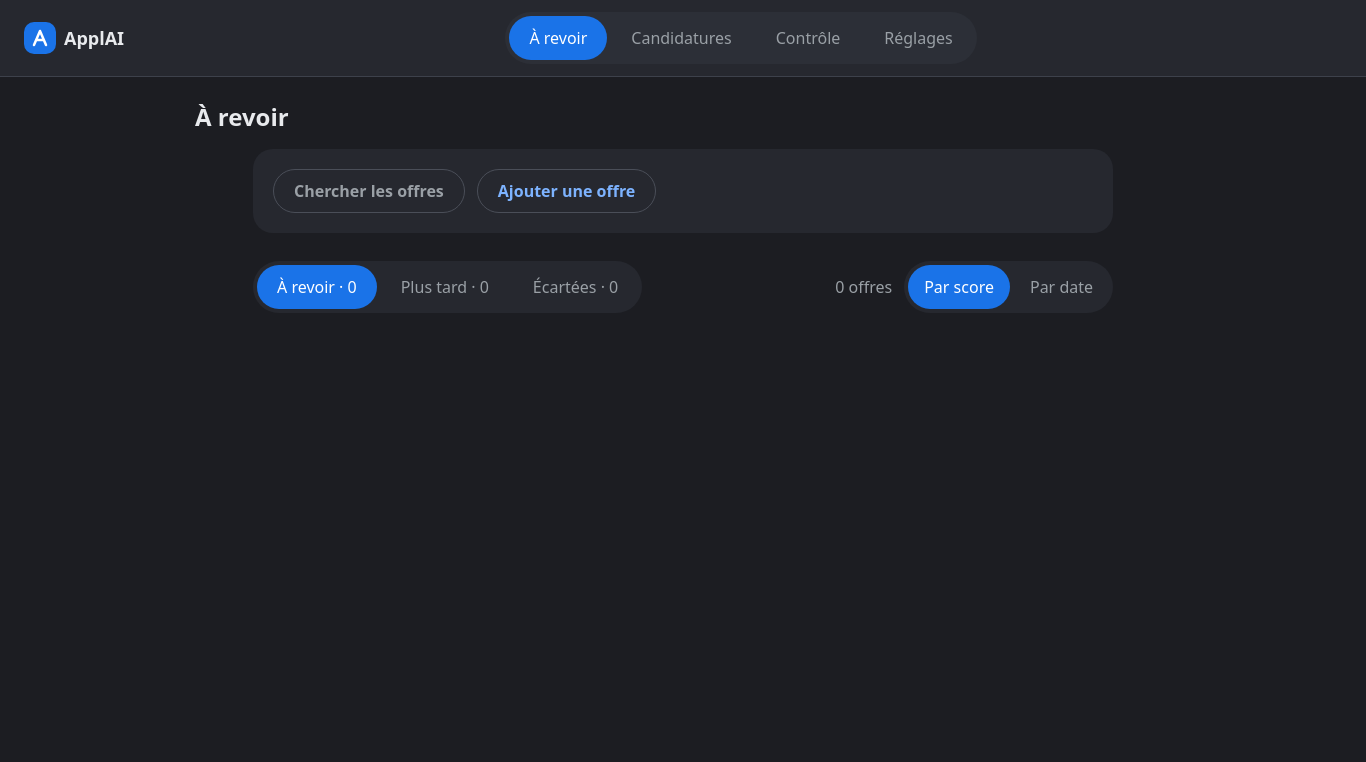
Test case: deciding on an answer › accepts an answer: posts accept and shows it accepted
Click the button "Candidatures".
click(682, 38)  # box [611,16,752,60]
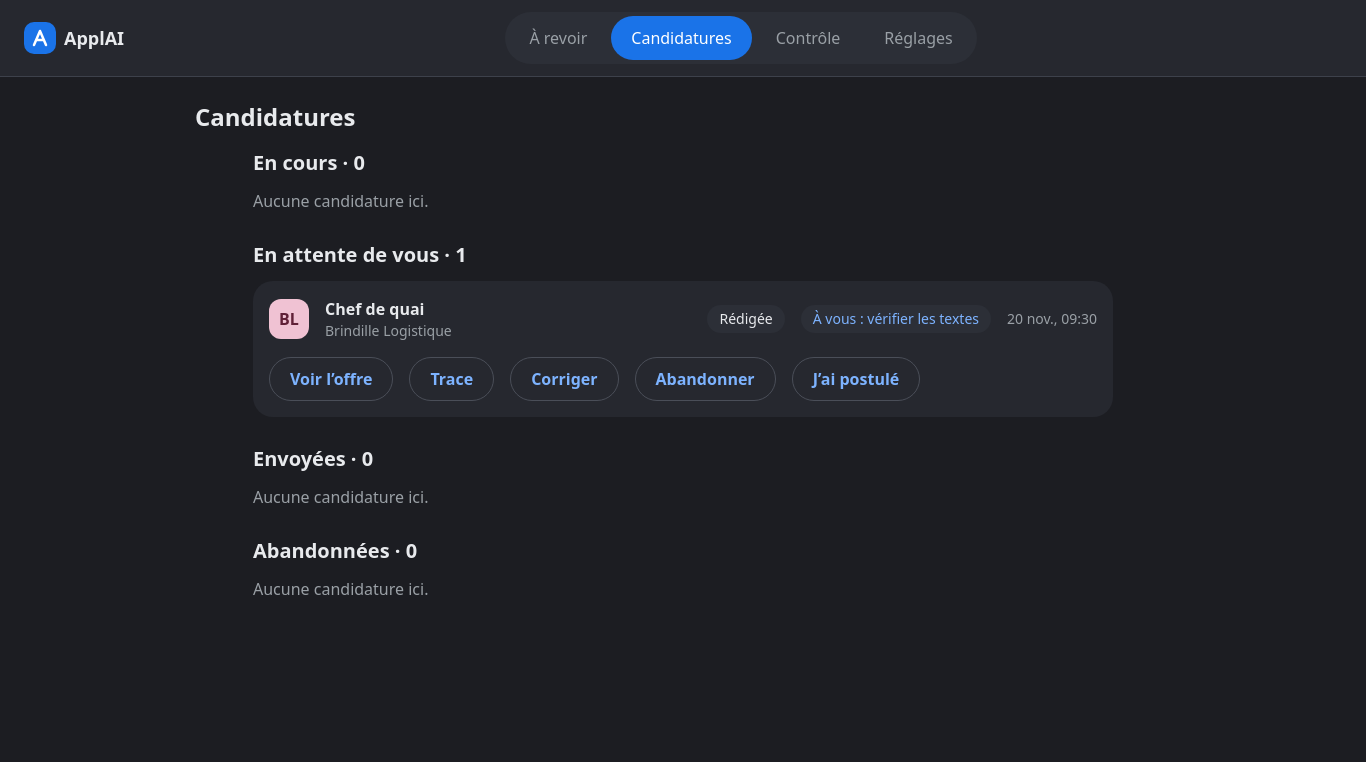
Click the button "Corriger".
click(564, 379)  # box [510,357,618,401]
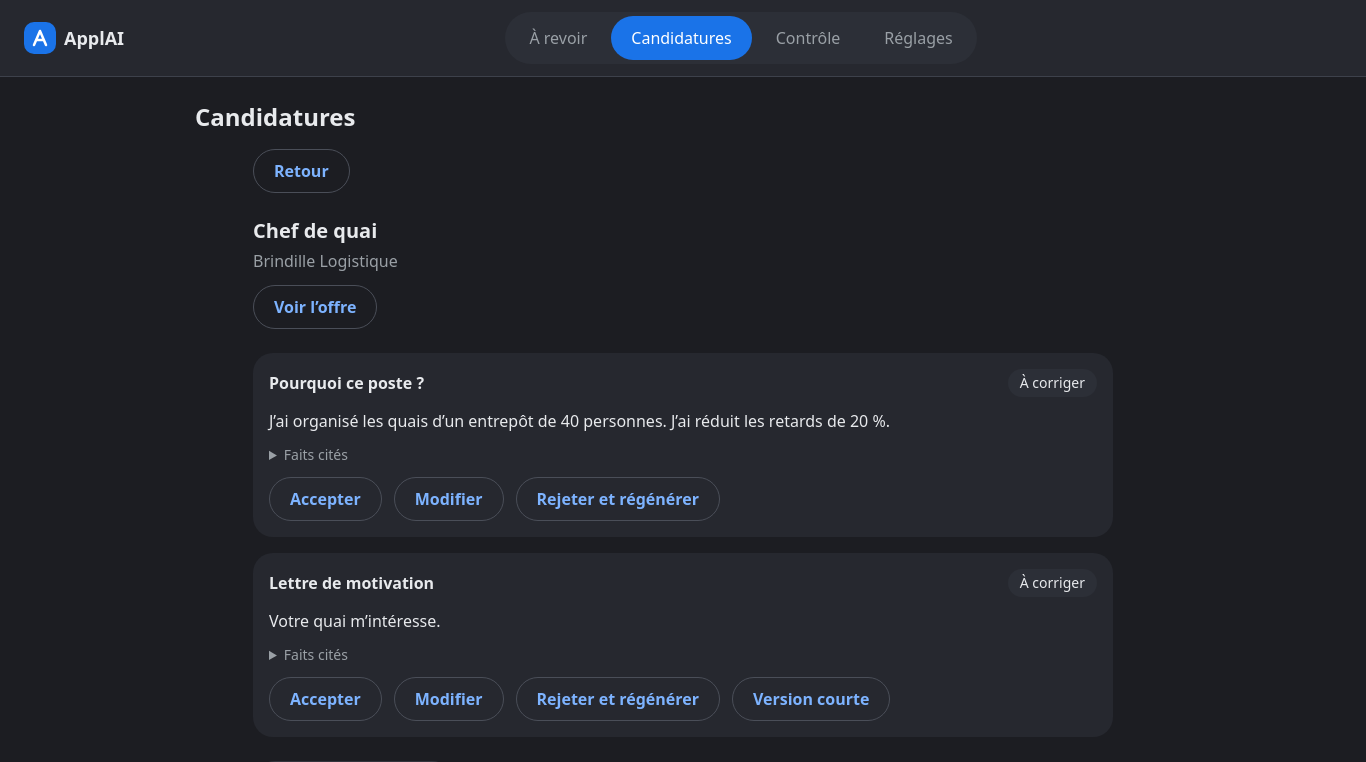
Now the heading "Chef de quai" is shown, box [253,217,377,244]
Click the button "Accepter" below "Pourquoi ce poste ?".
click(325, 499)  # box [269,477,382,521]
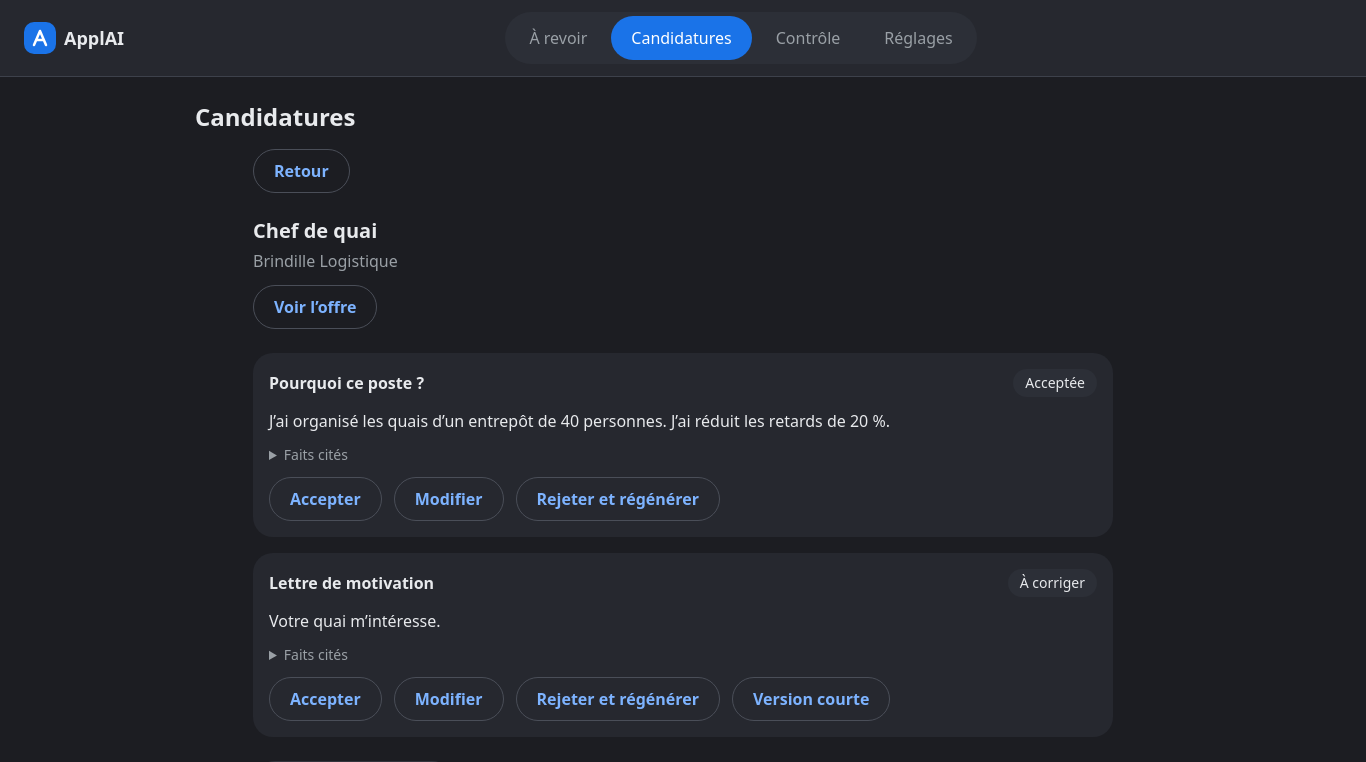
Now the text "Acceptée" is shown, box [1013,369,1097,397]
